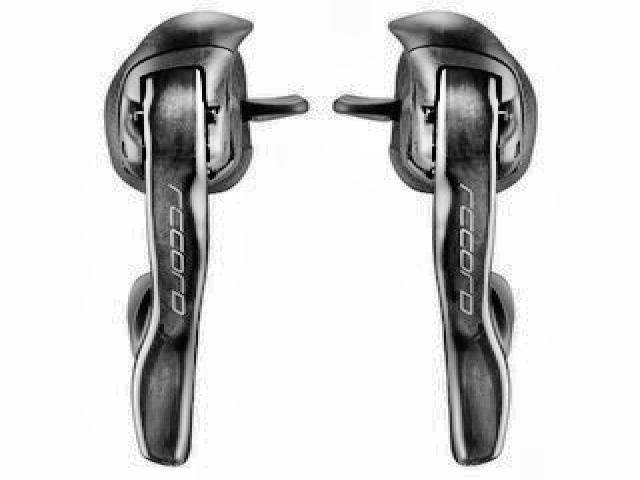sti_shifter: (327, 7, 544, 471), (103, 10, 314, 470)
